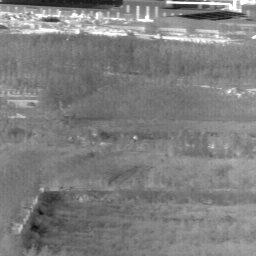aircraft: (66, 38, 68, 40)
